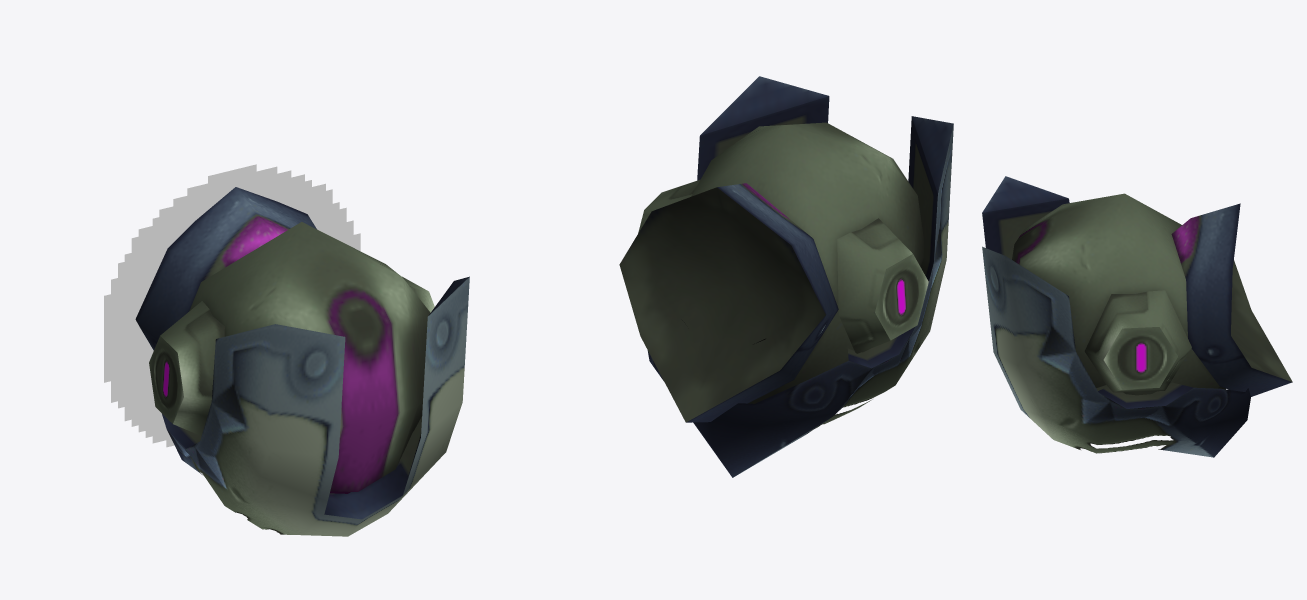
Rendered from model_stars.glb.
3 views of the same model, side by side, from view 1: azimuth 30°, elevation 25°; view 2: azimuth 150°, elevation 25°; view 3: azimuth 270°, elevation 25° (orthographic). The views are drawn at different scales.
Parts seen in each view (by area): view 1: nose.model_stars-MeshNodes["mesh_helm"], nose.model_stars-MeshNodes["mesh_helm01"], mesh.model_billboard-MeshNodes["plane_1unit"]; view 2: nose.model_stars-MeshNodes["mesh_helm"], nose.model_stars-MeshNodes["mesh_helm01"]; view 3: nose.model_stars-MeshNodes["mesh_helm"], nose.model_stars-MeshNodes["mesh_helm01"].
Part boxes in pixels (<box>): nose.model_stars-MeshNodes["mesh_helm"]: <box>135,187,469,536</box>; nose.model_stars-MeshNodes["mesh_helm01"]: <box>189,222,430,493</box>; mesh.model_billboard-MeshNodes["plane_1unit"]: <box>104,164,360,447</box>; nose.model_stars-MeshNodes["mesh_helm"]: <box>619,76,953,477</box>; nose.model_stars-MeshNodes["mesh_helm01"]: <box>691,122,923,403</box>; nose.model_stars-MeshNodes["mesh_helm"]: <box>982,176,1292,457</box>; nose.model_stars-MeshNodes["mesh_helm01"]: <box>1012,193,1225,395</box>.
Size of the model in its own units: 0.84 by 0.84 by 0.6066.
Materials: 3 (3 with a texture image).
